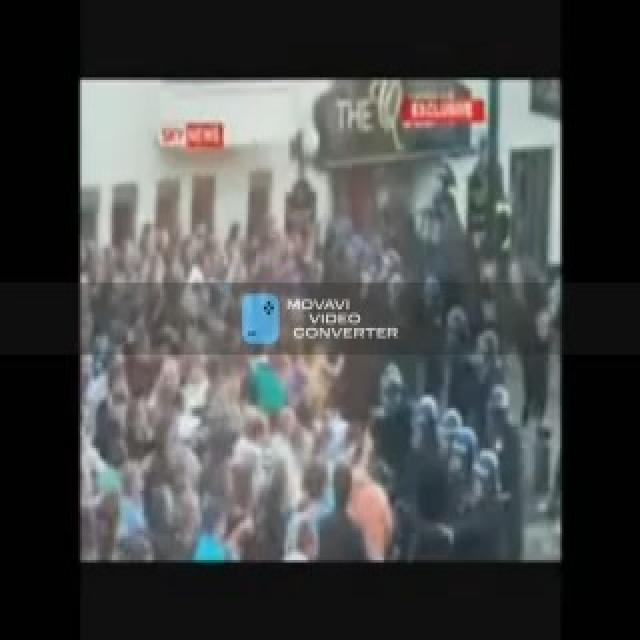non-voilence: (78, 80, 560, 563)
